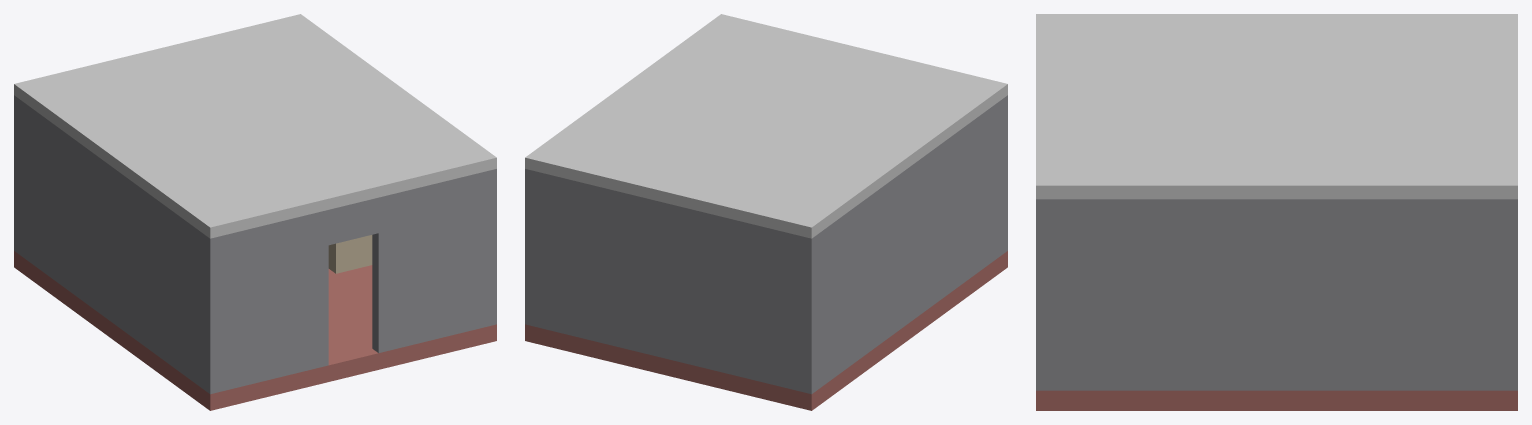
Rendered from motel_b.glb.
3 views of the same model, side by side, from view 1: azimuth 30°, elevation 25°; view 2: azimuth 150°, elevation 25°; view 3: azimuth 270°, elevation 25° (orthographic). The views are drawn at different scales.
Parts seen in each view (by area): view 1: Room_Ceiling, Room_Wall_W_1, Room_Wall_S_1, Room_Wall_S_3, Room_Floor, Room_Wall_S_2, Bed_2, Room_Wall_N_1; view 2: Room_Ceiling, Room_Wall_N_1, Room_Wall_W_1, Room_Floor, Room_Wall_S_1; view 3: Room_Ceiling, Room_Wall_E_1, Room_Floor, Room_Wall_N_1, Room_Wall_S_3.
Part boxes in pixels (box(x1,y1,x2,y2)): Room_Ceiling: box(14, 14, 496, 238); Room_Wall_W_1: box(20, 100, 203, 389); Room_Wall_S_1: box(204, 210, 328, 394); Room_Wall_S_3: box(372, 169, 496, 353); Room_Floor: box(14, 251, 496, 410); Room_Wall_S_2: box(328, 197, 378, 245); Bed_2: box(328, 235, 372, 273); Room_Wall_N_1: box(14, 95, 19, 254); Room_Ceiling: box(525, 14, 1007, 238); Room_Wall_N_1: box(525, 169, 817, 394); Room_Wall_W_1: box(818, 100, 1001, 389); Room_Floor: box(525, 251, 1007, 410); Room_Wall_S_1: box(1002, 95, 1007, 254); Room_Ceiling: box(1036, 14, 1517, 199); Room_Wall_E_1: box(1051, 199, 1502, 390); Room_Floor: box(1036, 390, 1517, 410); Room_Wall_N_1: box(1503, 199, 1517, 390); Room_Wall_S_3: box(1036, 199, 1050, 390).
Bounding box in the file's own units: 5.4 × 3.3 × 6.4.
